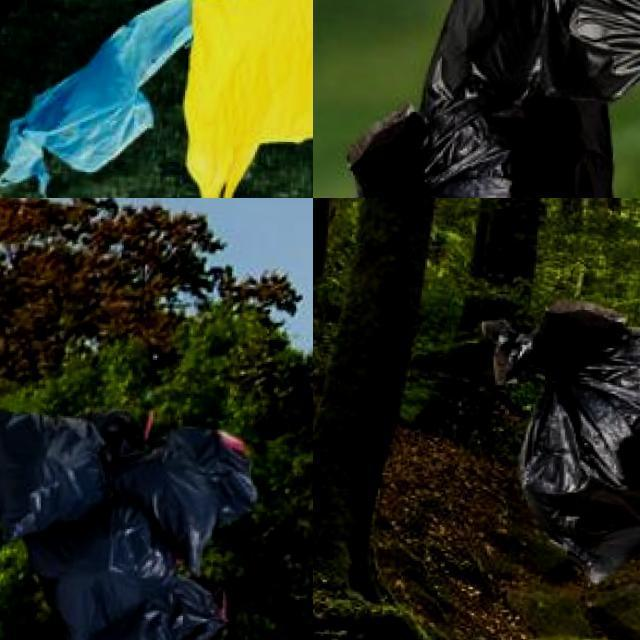waste: (480, 301, 640, 584), (330, 89, 630, 198), (181, 0, 313, 198), (424, 0, 640, 120), (23, 493, 181, 640), (110, 424, 264, 568), (0, 403, 117, 539), (90, 574, 230, 640)
